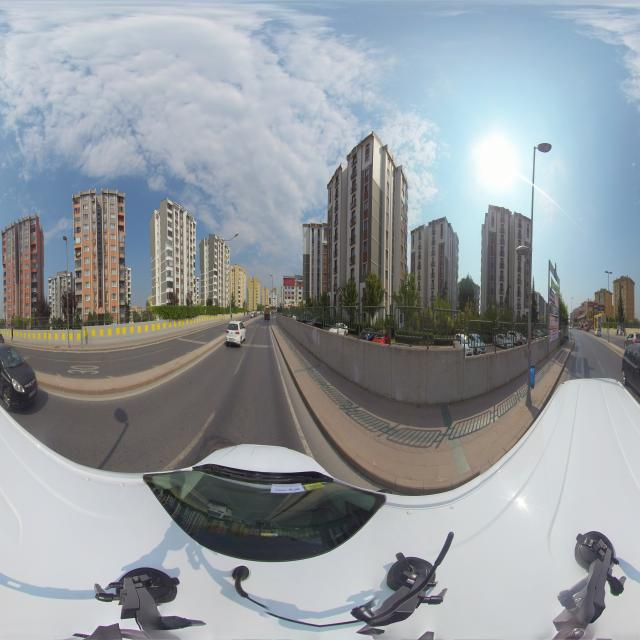SignStore: (285, 294, 294, 297), (285, 289, 294, 292), (300, 290, 303, 292)
